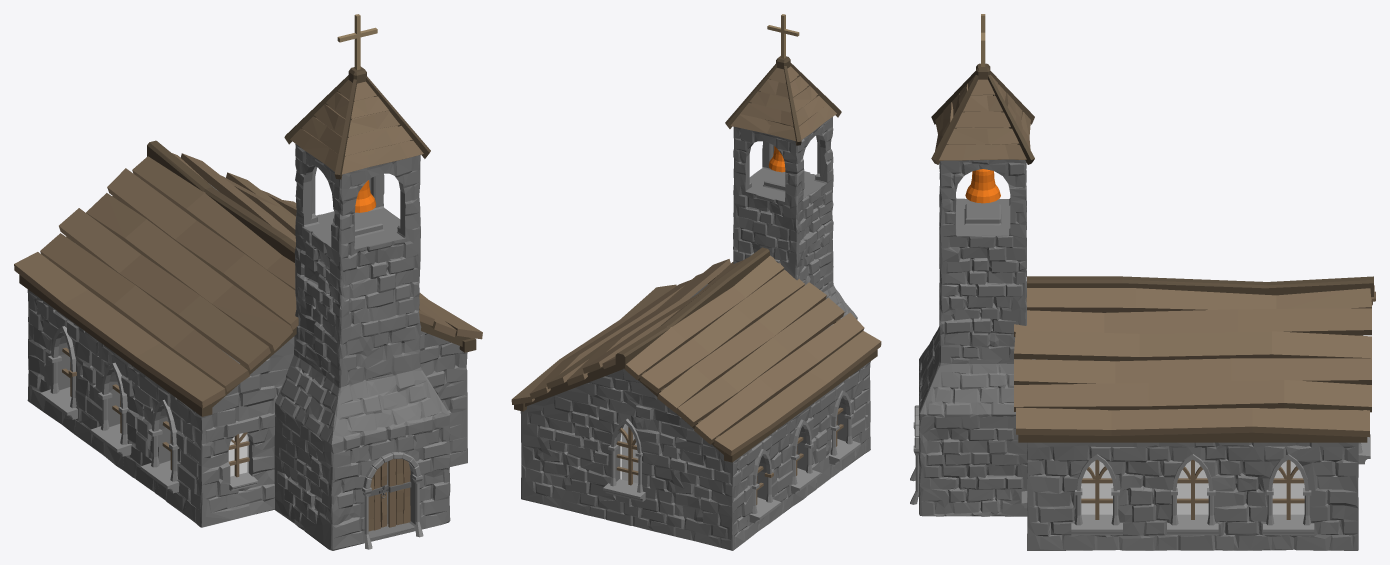
File: church_c.FBX
The picture shows the model from 3 angles, left to right: view 1: azimuth 30°, elevation 25°; view 2: azimuth 150°, elevation 25°; view 3: azimuth 270°, elevation 25°; orthographic projection. The views are drawn at different scales.
Parts seen in each view (by area): view 1: church_c; view 2: church_c; view 3: church_c.
Part boxes in pixels (x1,y1,x2,y2): church_c: [14, 14, 482, 550]; church_c: [511, 14, 881, 550]; church_c: [910, 14, 1375, 550].
Bounding box in the file's own units: 8.42 × 13.98 × 12.38.
